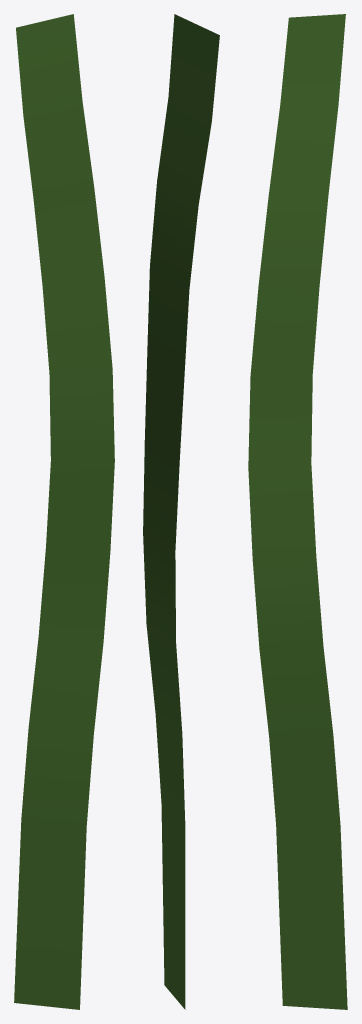
Rendered from plant_swamp_kelp_giant_A_solo_I.fbx.
3 views of the same model, side by side, from view 1: azimuth 90°, elevation 25°; view 2: azimuth 210°, elevation 25°; view 3: azimuth 270°, elevation 25° (orthographic). The views are drawn at different scales.
Visible parts, largest first — view 1: plant_swamp_kelp_giant_A_solo_I; view 2: plant_swamp_kelp_giant_A_solo_I; view 3: plant_swamp_kelp_giant_A_solo_I.
Boxes of the visible parts, x1=… form: plant_swamp_kelp_giant_A_solo_I: x1=14, y1=14, x2=114, y2=1009; plant_swamp_kelp_giant_A_solo_I: x1=143, y1=14, x2=219, y2=1009; plant_swamp_kelp_giant_A_solo_I: x1=248, y1=14, x2=347, y2=1009.
Size of the model in its own units: 7.92 by 207 by 18.94.
